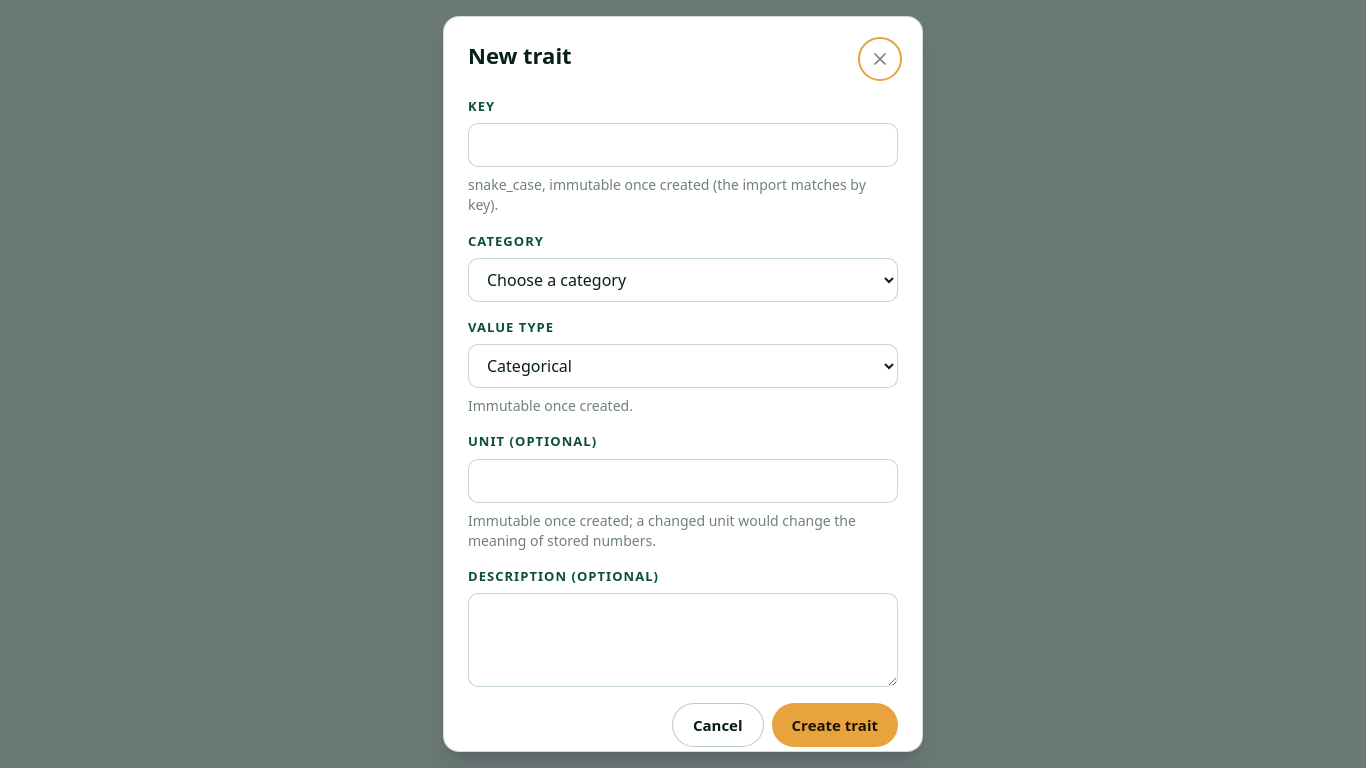
Scenario: RFC-62 R6 NewTraitDialog › maps TRAIT_KEY_TAKEN under the key field and VALIDATION_FAILED details by path
This screenshot has width=1366, height=768.
Type "sexual_system" into the field labelled "Key" at (683, 145), box 468,123 -> 898,167
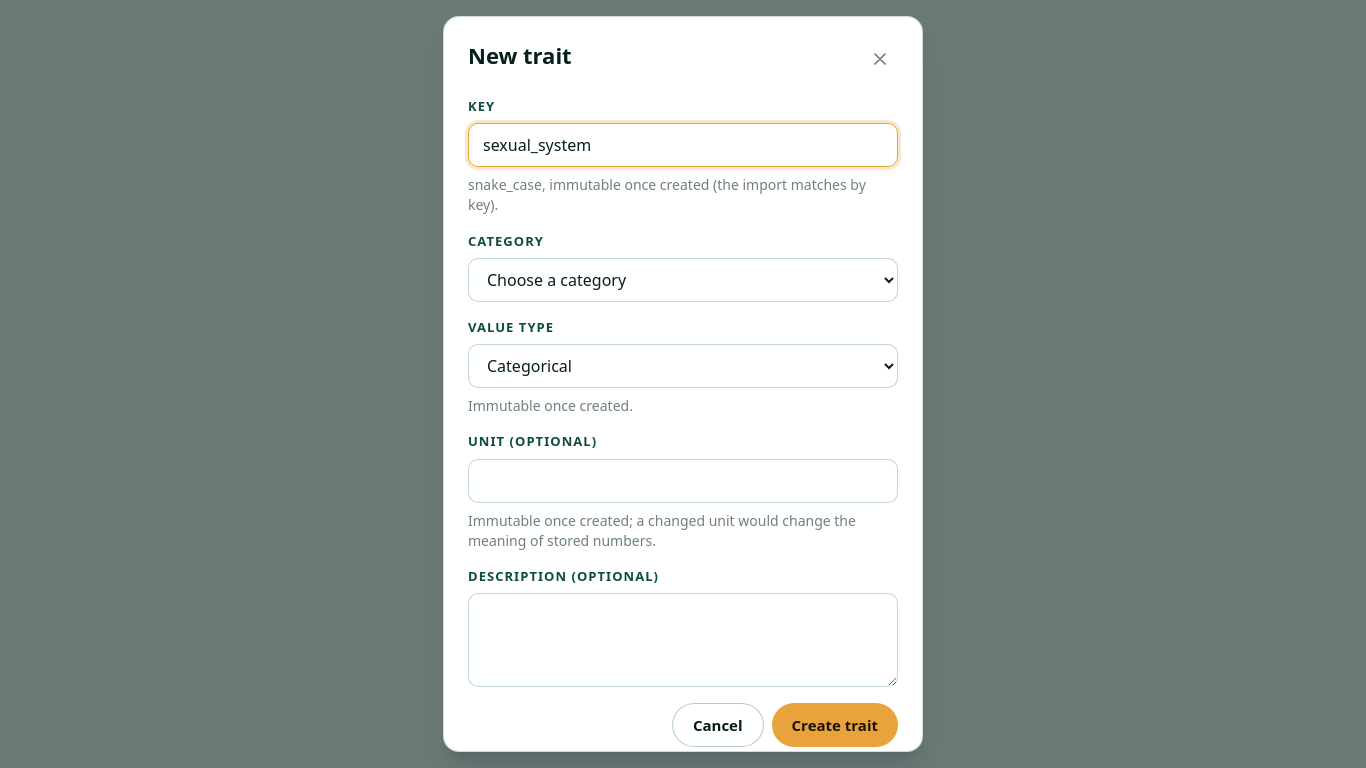
Select "Seed" in the dropdown labelled "Category" at (683, 280), box 468,258 -> 898,302
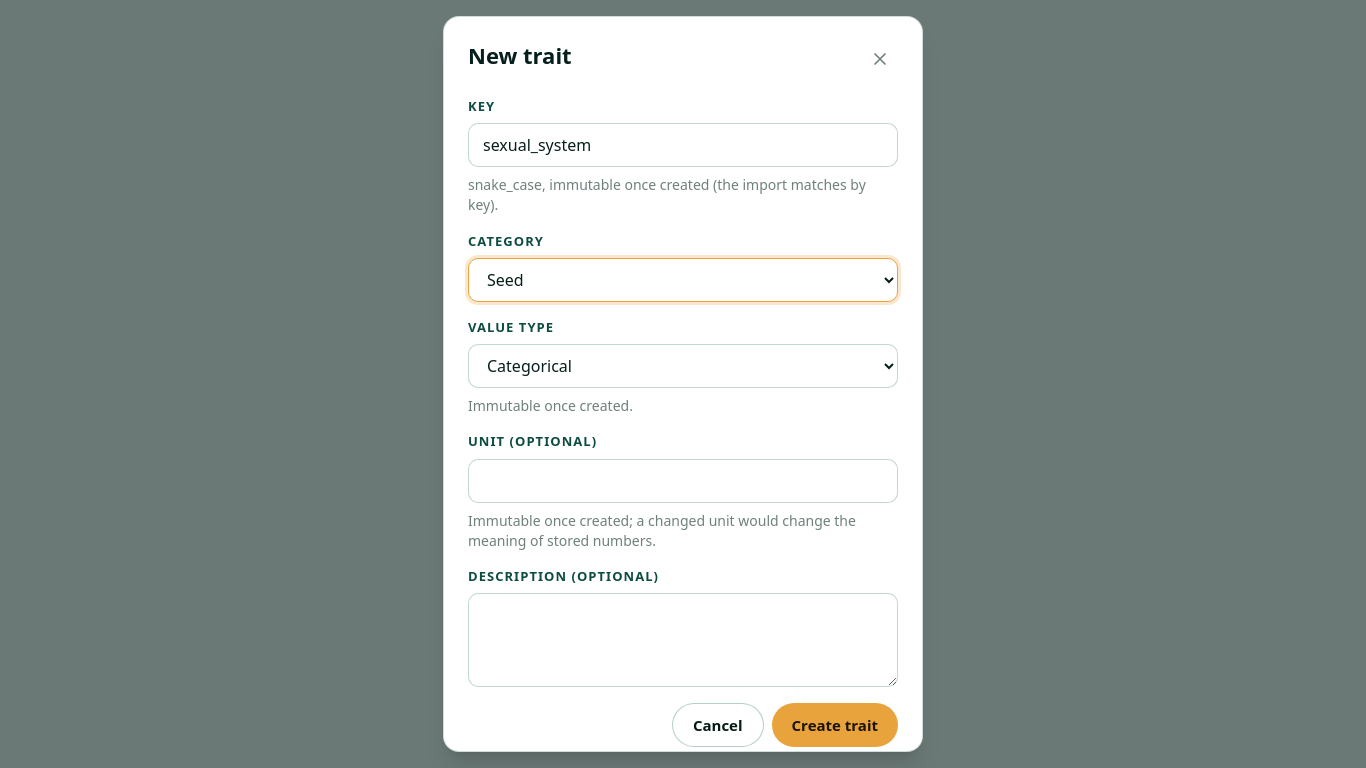
Click the button "Create trait" at (835, 725), box 772,703 -> 898,747
(page scrolled)
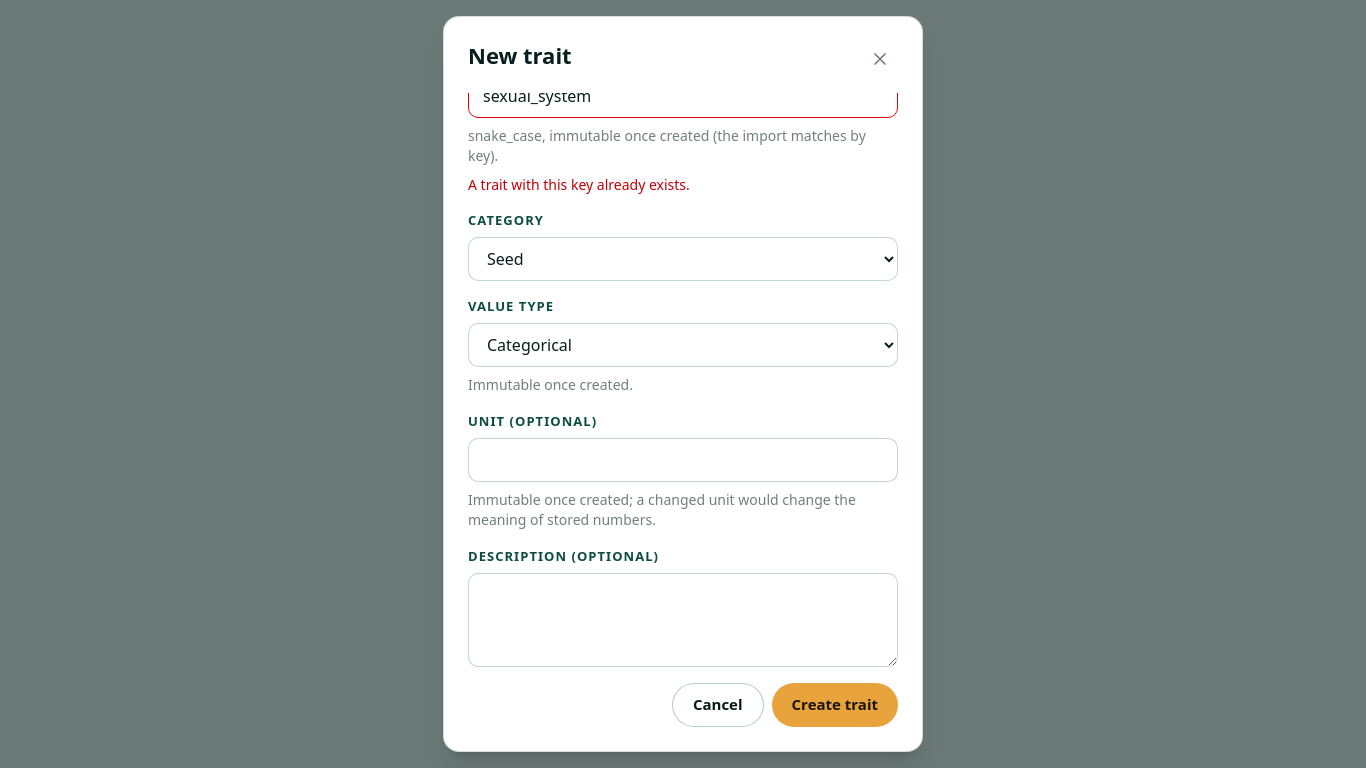
Expected: the text "A trait with this key already exists." is shown, 468,175 -> 690,194
Click the button "Create trait" at (835, 705), box 772,683 -> 898,727
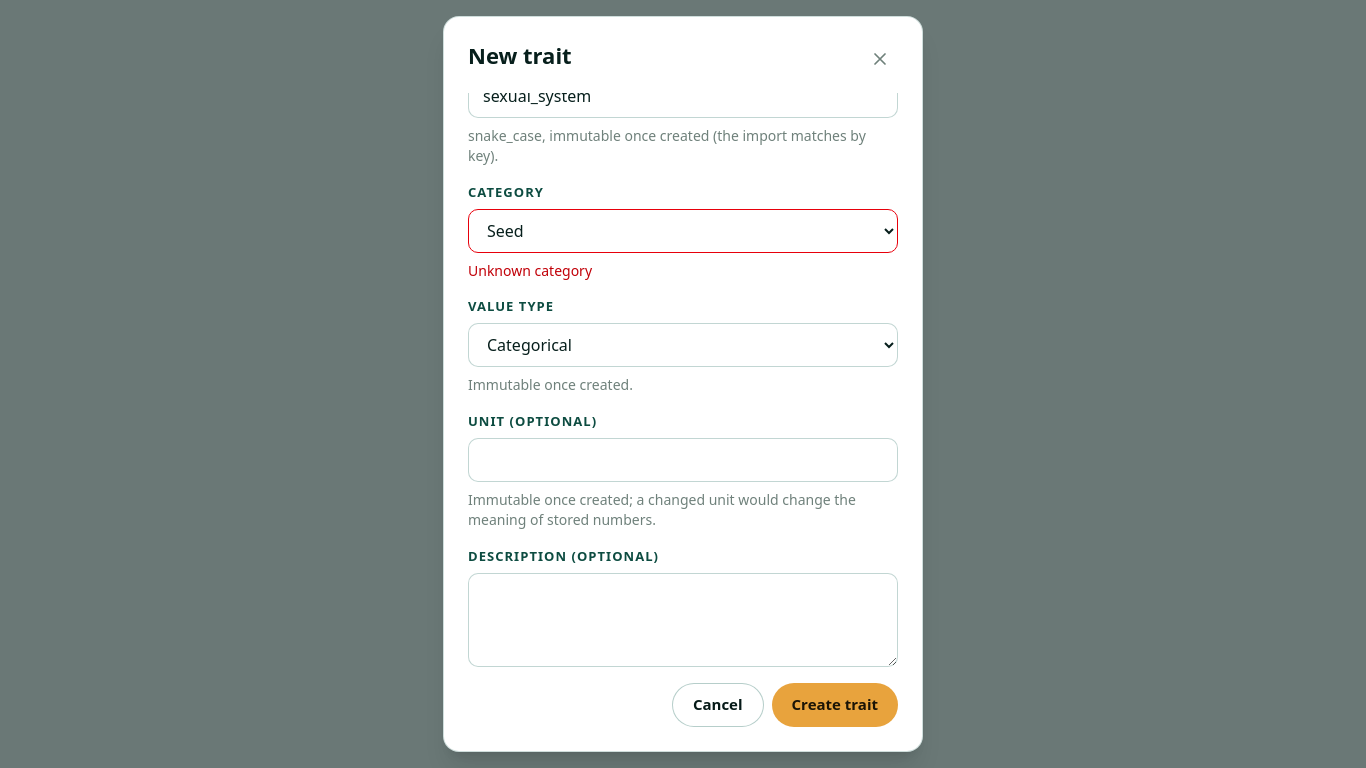
Expected: the text "Unknown category" is shown, 468,261 -> 592,280
